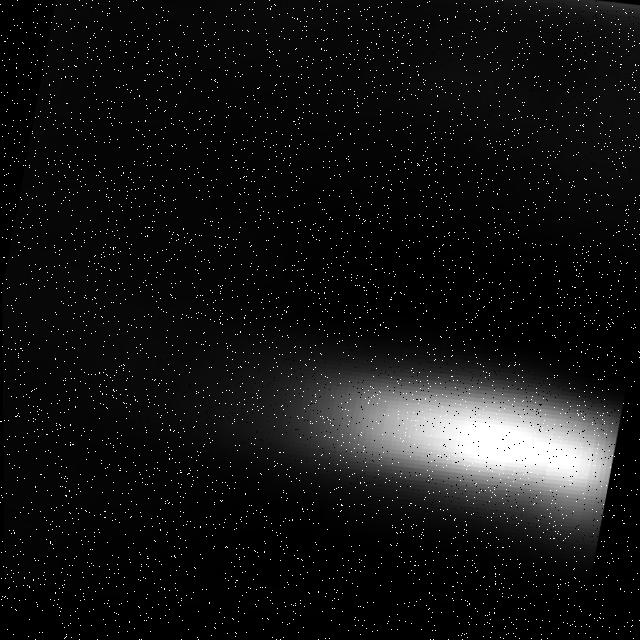person: (182, 289, 633, 587)
